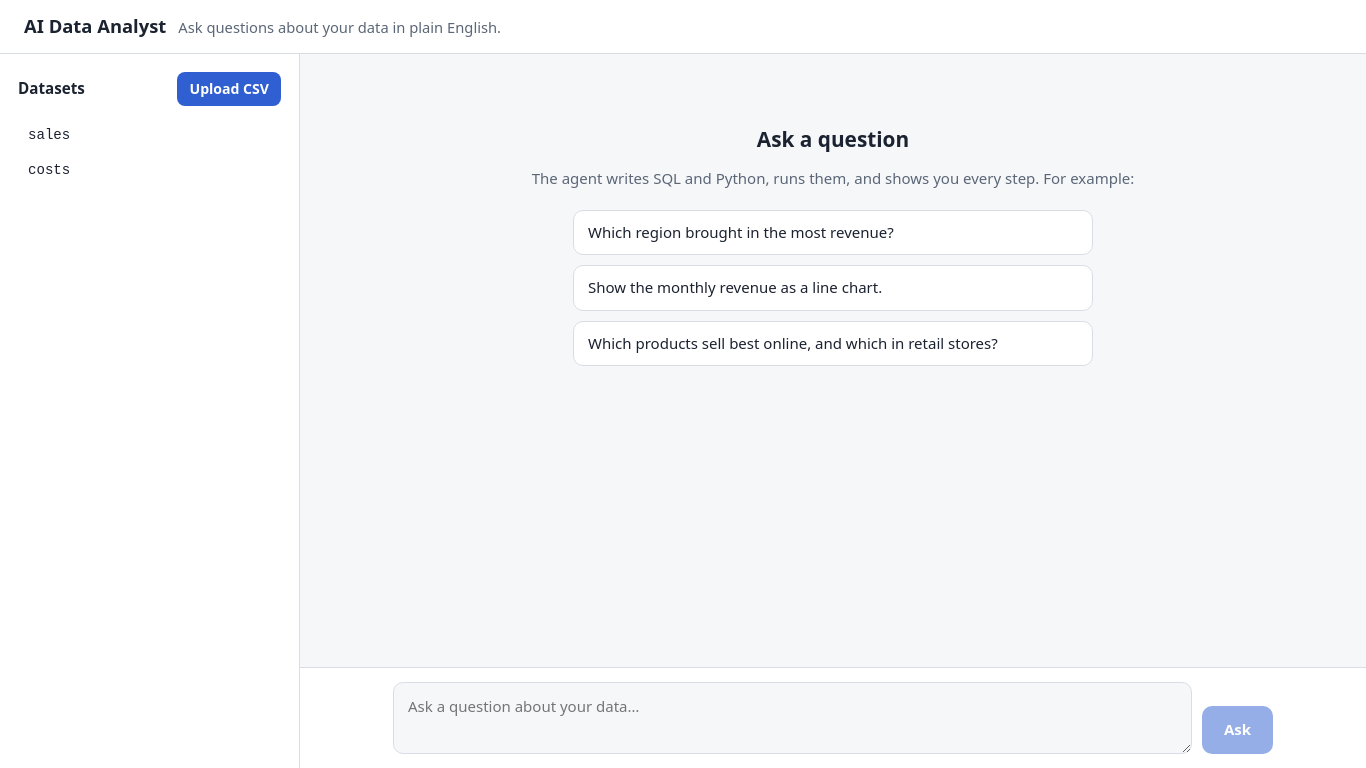
Test case: DatasetPanel › shows the dataset clicked last, when an earlier click gets its details later
Click the button "sales" at (49, 135), box [18, 118, 281, 153]
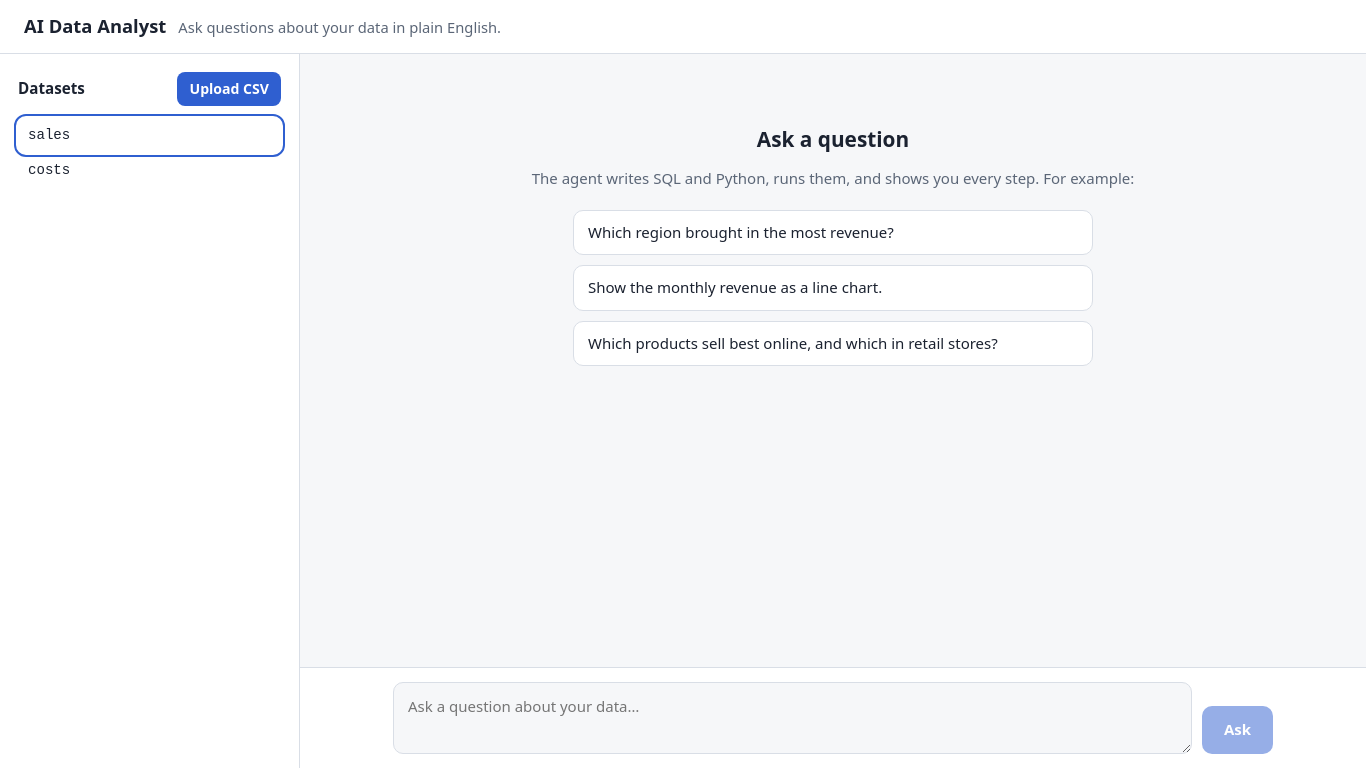
Click the button "costs" at (49, 170), box [18, 153, 281, 189]
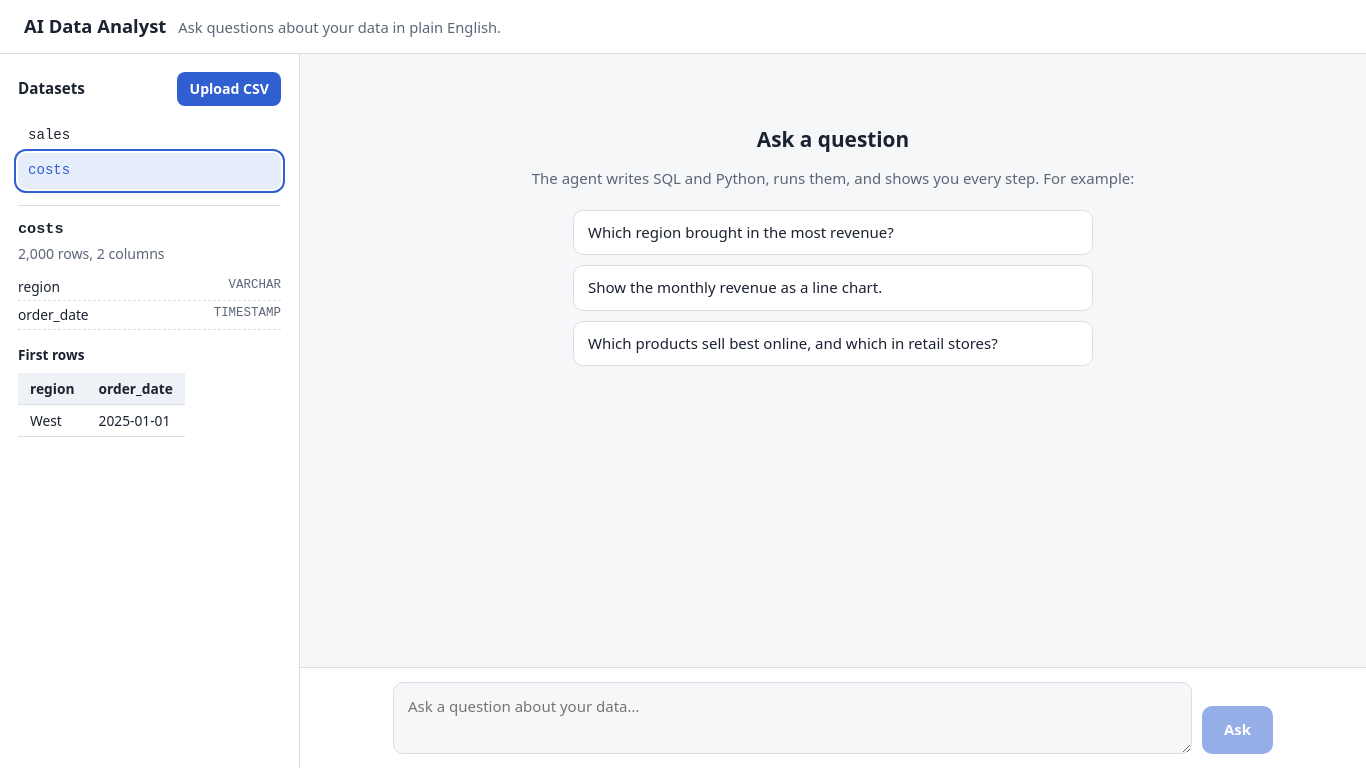
Expected: the element named "Details of costs" is shown, [18, 205, 281, 438]
